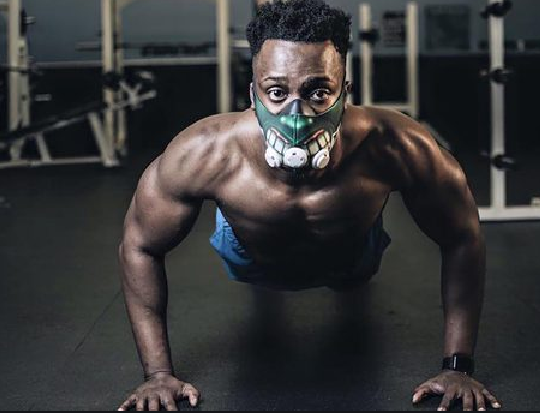with_mask: (252, 35, 356, 180)
